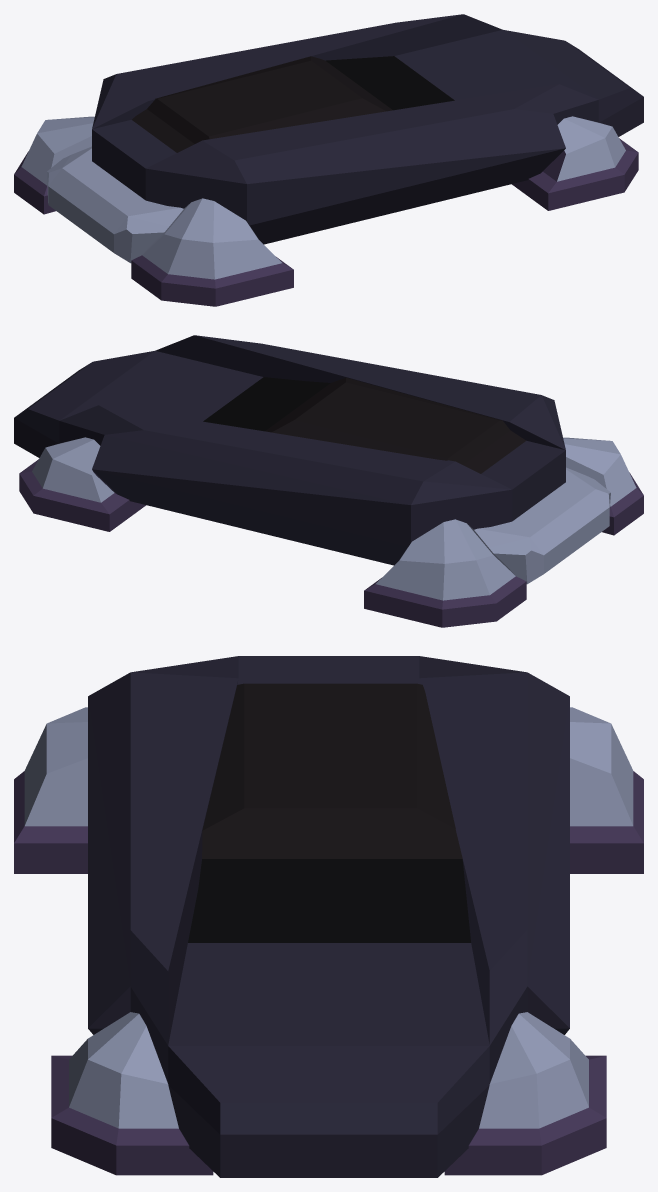
The model's file is Tank_cuvette.fbx.
The picture shows the model from 3 angles, top to bottom: view 1: azimuth 30°, elevation 25°; view 2: azimuth 150°, elevation 25°; view 3: azimuth 270°, elevation 25°; orthographic projection. The views are drawn at different scales.
Visible parts, largest first — view 1: Cuvette; view 2: Cuvette; view 3: Cuvette.
Part boxes in pixels (box(x1,y1,x2,y2)): Cuvette: box(14, 14, 643, 306); Cuvette: box(14, 335, 643, 627); Cuvette: box(14, 656, 643, 1177).
Size of the model in its own units: 1207 by 235 by 739.
